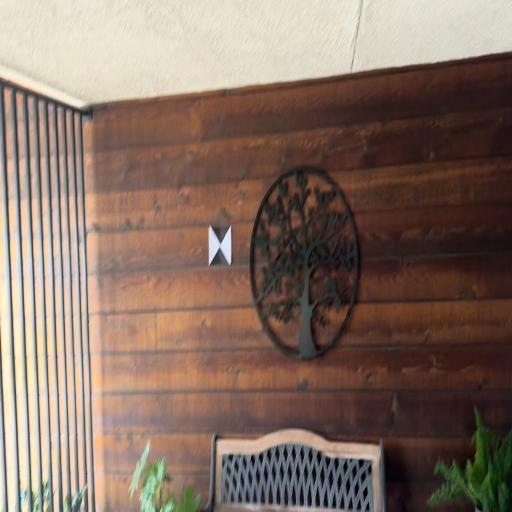target: (208, 226, 232, 267)
